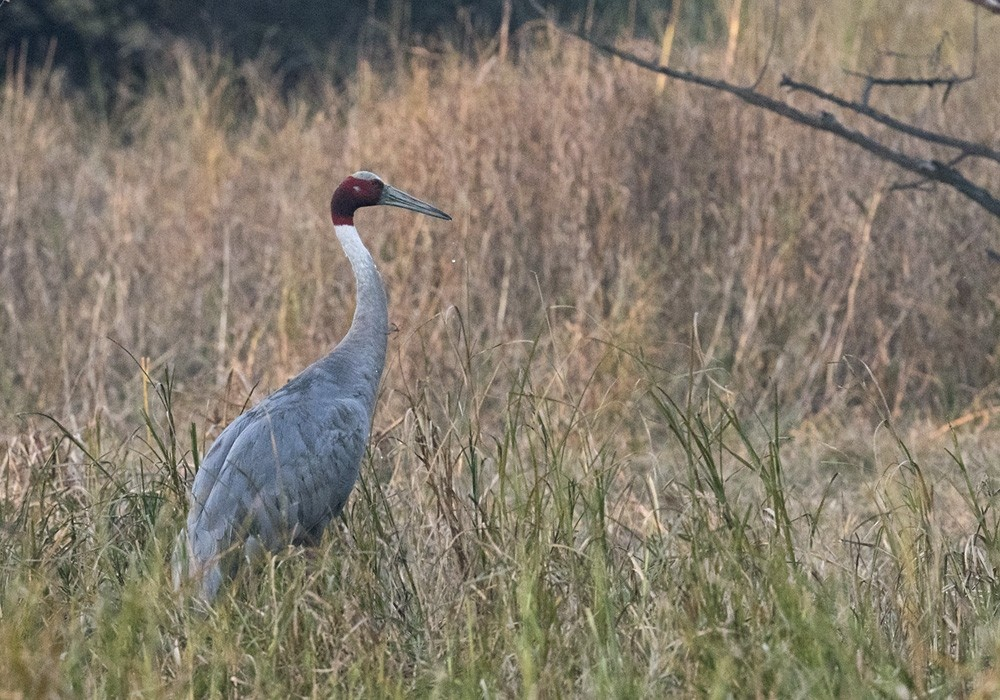crane: (178, 165, 451, 630)
